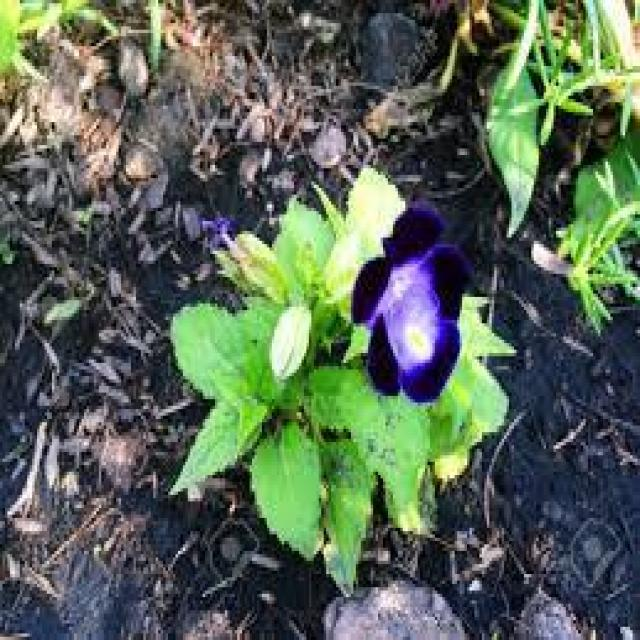organic waste: (337, 193, 488, 407)
